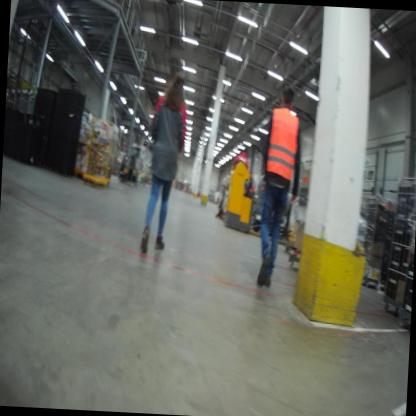pallet_truck: (219, 158, 269, 237)
